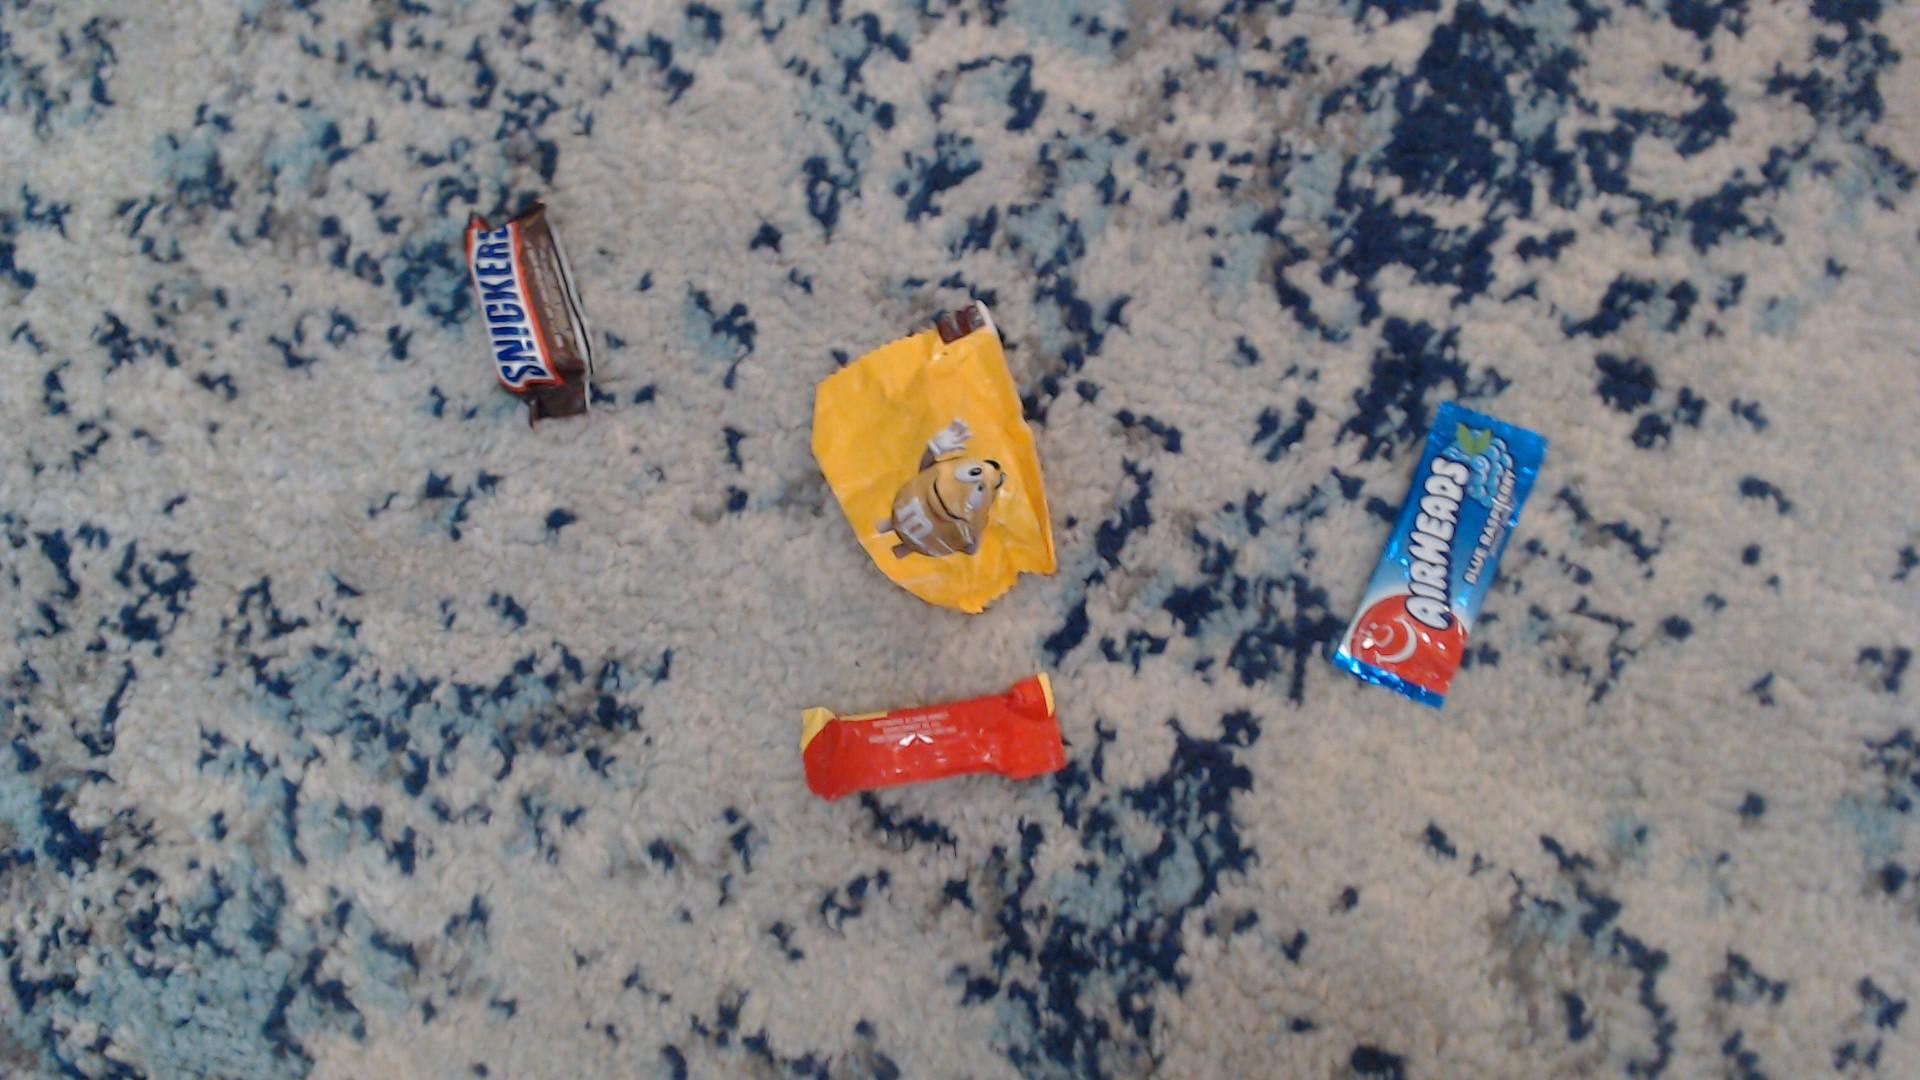MM_yellow: (811, 306, 1059, 612)
Snickers: (463, 200, 596, 423)
airheads: (1325, 405, 1544, 711)
starburst: (796, 666, 1075, 808)
